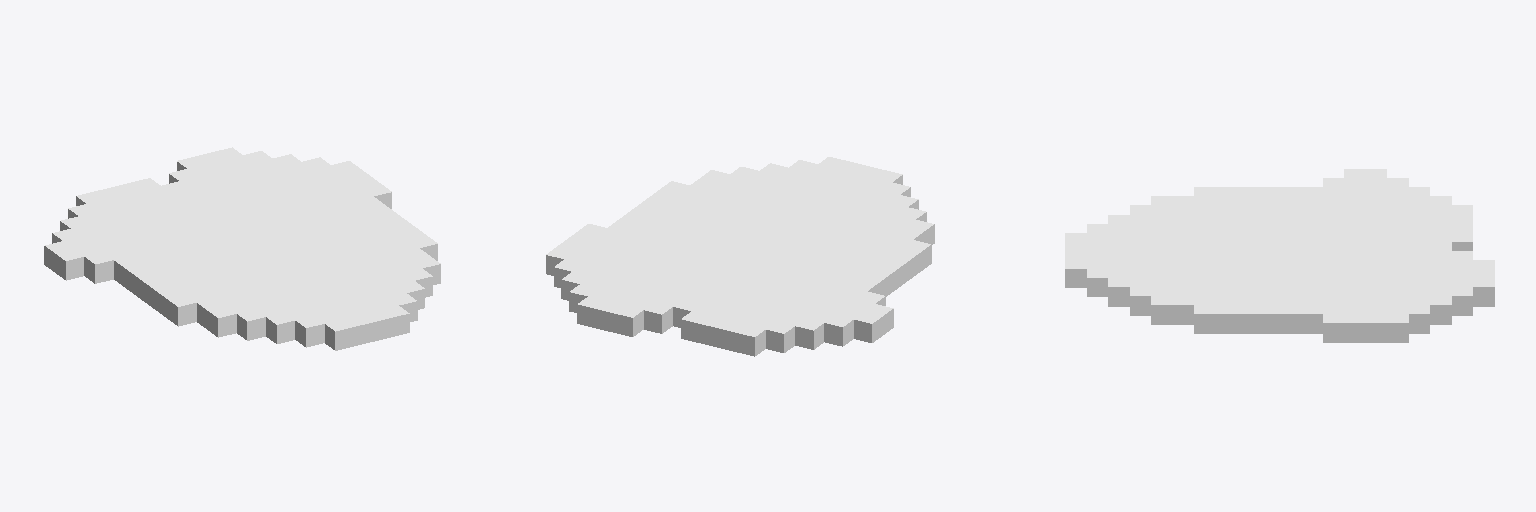
Rendered from programmer.obj.
3 views of the same model, side by side, from view 1: azimuth 30°, elevation 25°; view 2: azimuth 150°, elevation 25°; view 3: azimuth 270°, elevation 25° (orthographic).
Bounding box in the file's own units: 17 × 1 × 20.